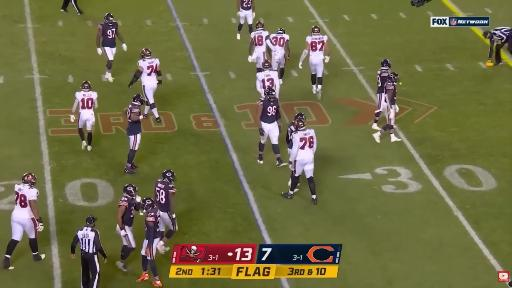Helmet: (123, 184, 137, 198), (22, 173, 36, 186), (141, 198, 155, 211), (162, 170, 175, 183), (264, 87, 275, 100), (140, 48, 152, 59), (132, 94, 144, 105), (104, 13, 114, 25), (262, 59, 272, 70), (389, 72, 399, 83), (295, 119, 305, 130), (81, 81, 91, 91), (381, 59, 391, 68), (255, 21, 264, 30), (295, 113, 306, 120), (312, 26, 320, 34), (277, 28, 285, 34)
Jersey: (13, 184, 38, 218), (290, 130, 316, 161), (155, 180, 176, 213), (119, 197, 139, 226), (138, 59, 159, 85), (257, 98, 278, 123), (145, 207, 161, 239), (256, 71, 279, 93), (75, 91, 97, 113), (98, 22, 117, 47), (307, 35, 327, 58), (127, 104, 141, 135), (270, 34, 289, 55), (251, 30, 269, 51), (491, 27, 511, 42), (377, 68, 389, 93), (385, 81, 396, 106), (286, 122, 295, 149), (240, 0, 252, 10)
Player: (3, 173, 45, 269), (282, 119, 317, 204), (129, 48, 161, 122), (257, 87, 286, 167), (299, 26, 330, 98), (137, 198, 162, 286), (116, 184, 140, 271), (96, 13, 126, 82), (373, 72, 401, 142), (155, 170, 177, 253), (71, 81, 97, 150), (125, 94, 147, 173), (372, 59, 391, 130), (267, 28, 290, 83), (483, 27, 511, 65), (248, 22, 269, 72), (256, 60, 279, 98), (286, 113, 306, 155), (237, 0, 255, 39)
